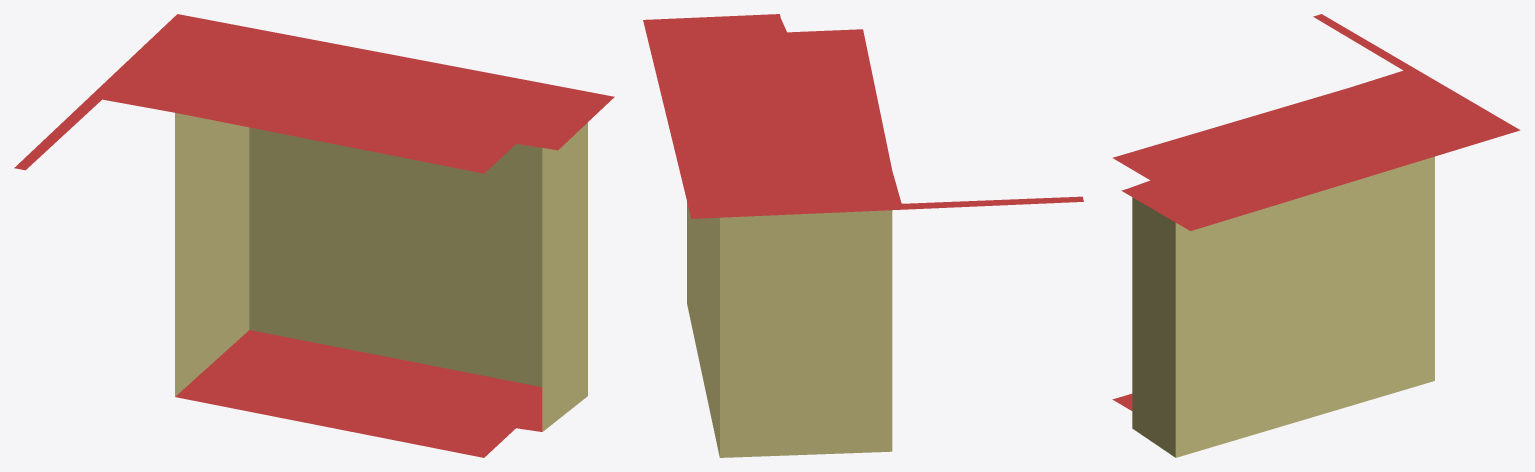
3 views of the same model, side by side, from view 1: azimuth 30°, elevation 25°; view 2: azimuth 150°, elevation 25°; view 3: azimuth 270°, elevation 25° (orthographic). The views are drawn at different scales.
Size of the model in its own units: 10.62 by 8.44 by 5.51.
